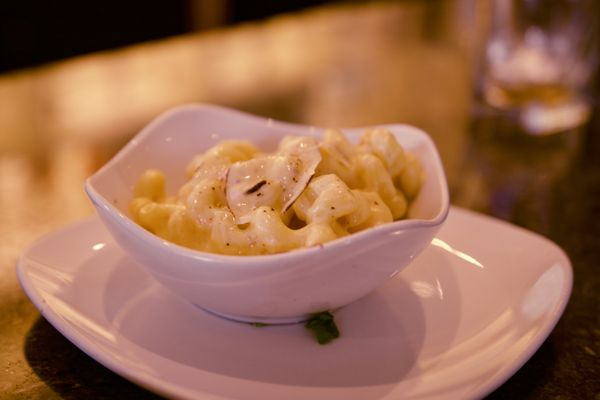sushi: (7, 200, 576, 394), (82, 101, 451, 323)
